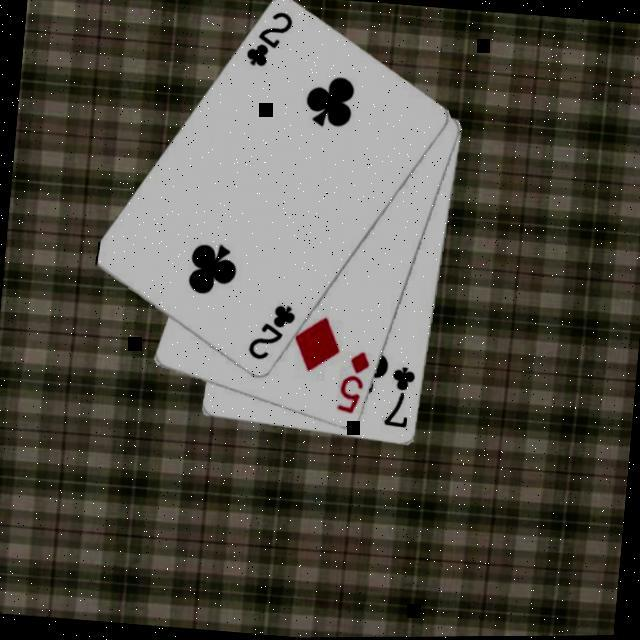2C: (242, 300, 299, 366), (241, 7, 296, 73)
5D: (332, 348, 373, 419)
7C: (379, 363, 418, 434)
